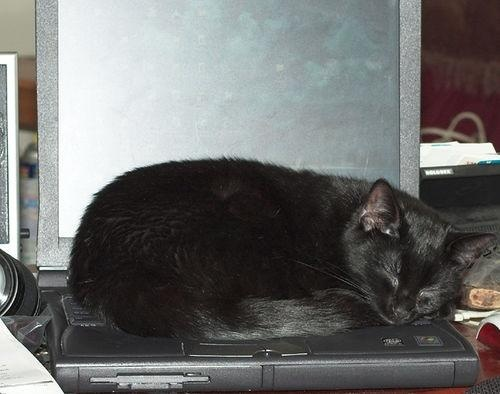cat: (68, 162, 497, 343)
